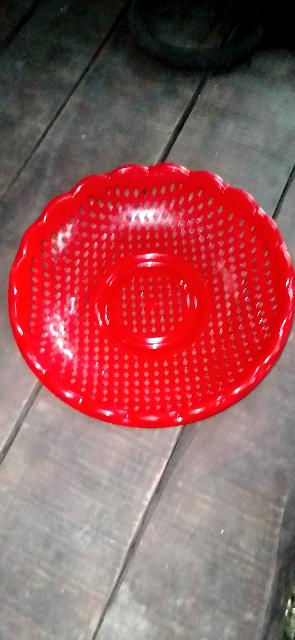hardplastic: (0, 138, 295, 456)
